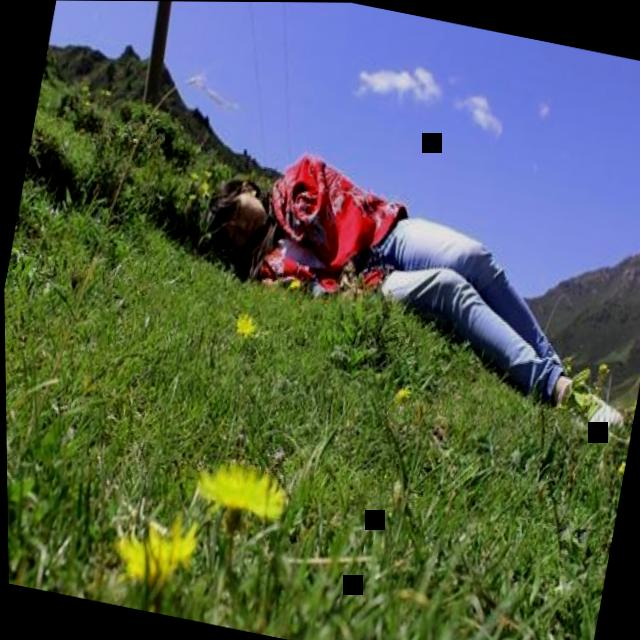Fall-Detected: (174, 105, 640, 436)
